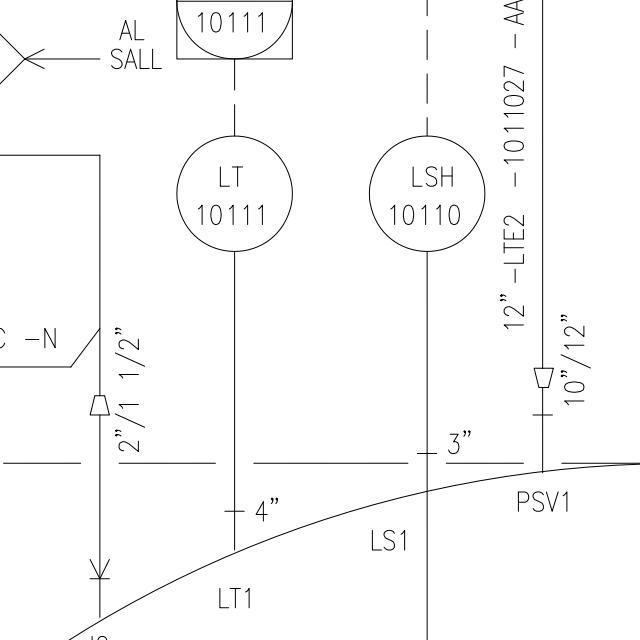SP: (530, 363, 557, 391), (88, 391, 113, 421)
